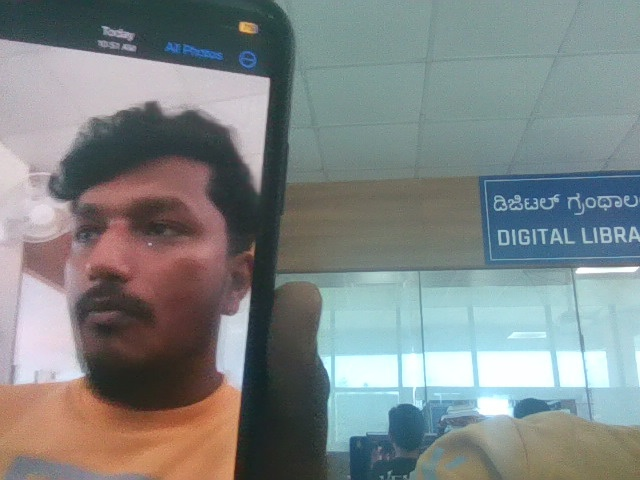fake: (40, 79, 260, 391)
